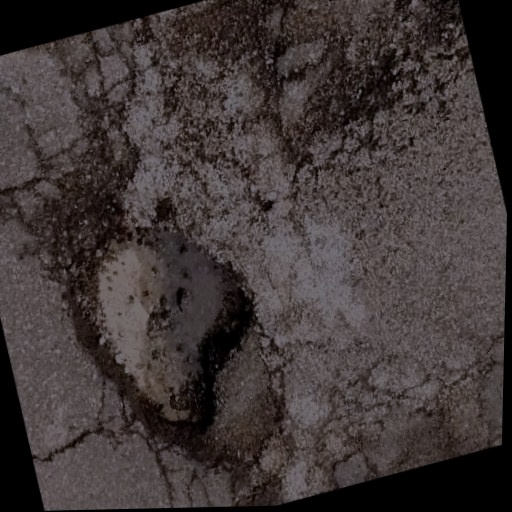pothole: (39, 174, 296, 482), (399, 0, 460, 18)
